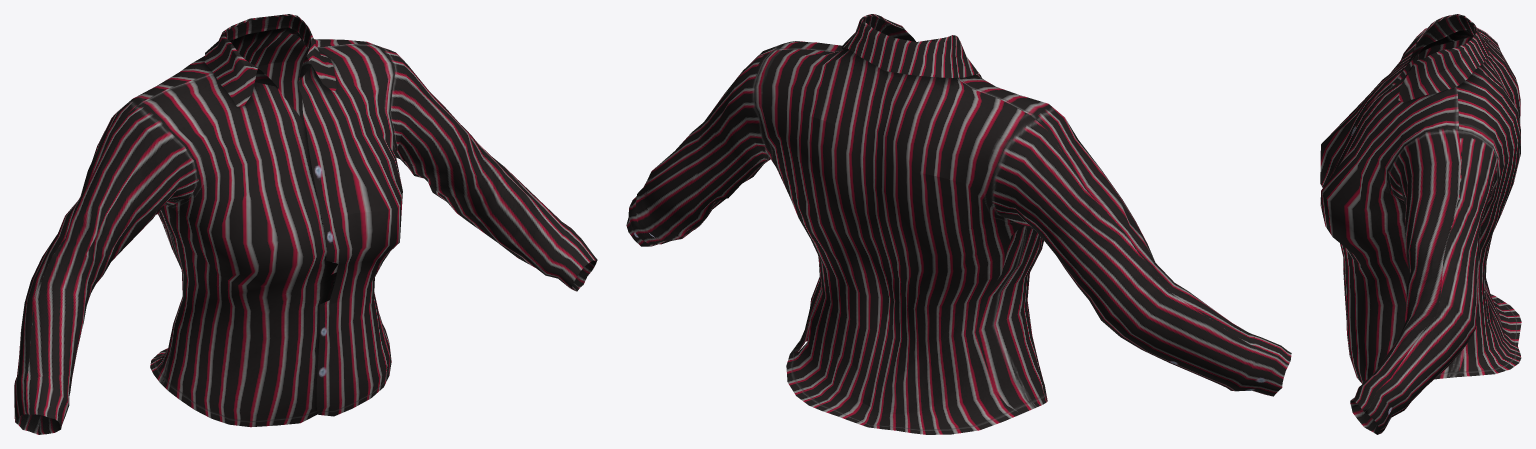
File: LXS_XLF.dae
3 views of the same model, side by side, from view 1: azimuth 30°, elevation 25°; view 2: azimuth 150°, elevation 25°; view 3: azimuth 270°, elevation 25° (orthographic). The views are drawn at different scales.
Visible parts, largest first — view 1: LXS; view 2: LXS; view 3: LXS.
Boxes of the visible parts, <box> form: LXS: <box>14,14,597,434</box>; LXS: <box>626,14,1291,434</box>; LXS: <box>1320,14,1521,434</box>.
Bounding box in the file's own units: 8.81 × 5.13 × 2.81.
